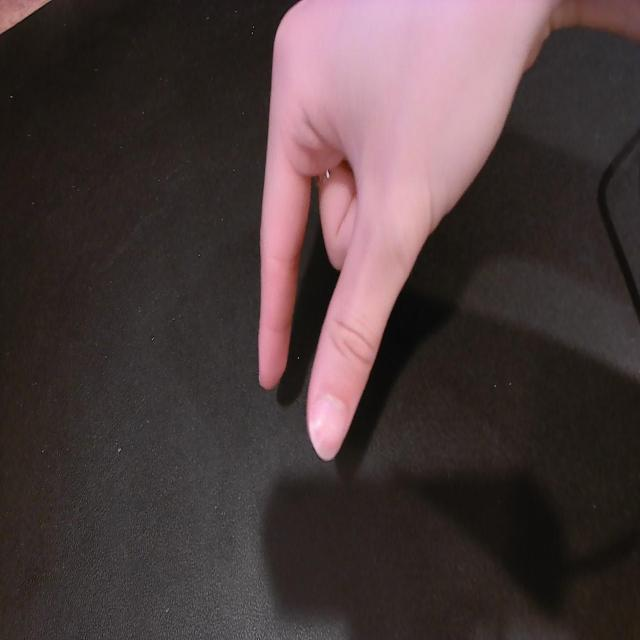Q: (253, 0, 554, 469)
